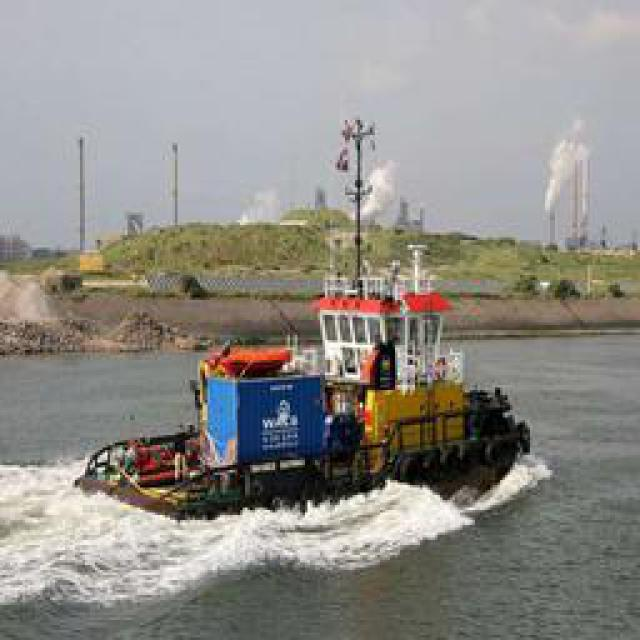Ship: (75, 246, 535, 521)
